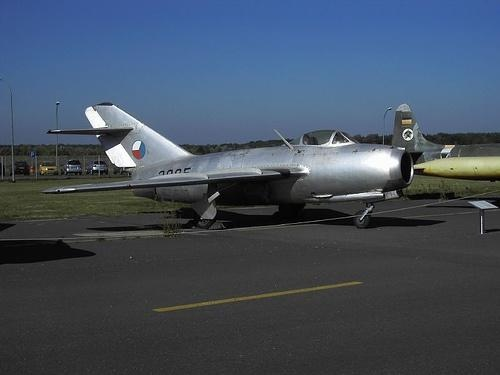aeroplane: (41, 102, 415, 228), (394, 103, 500, 182)
car: (88, 160, 111, 177), (64, 160, 84, 177), (40, 163, 60, 177)
